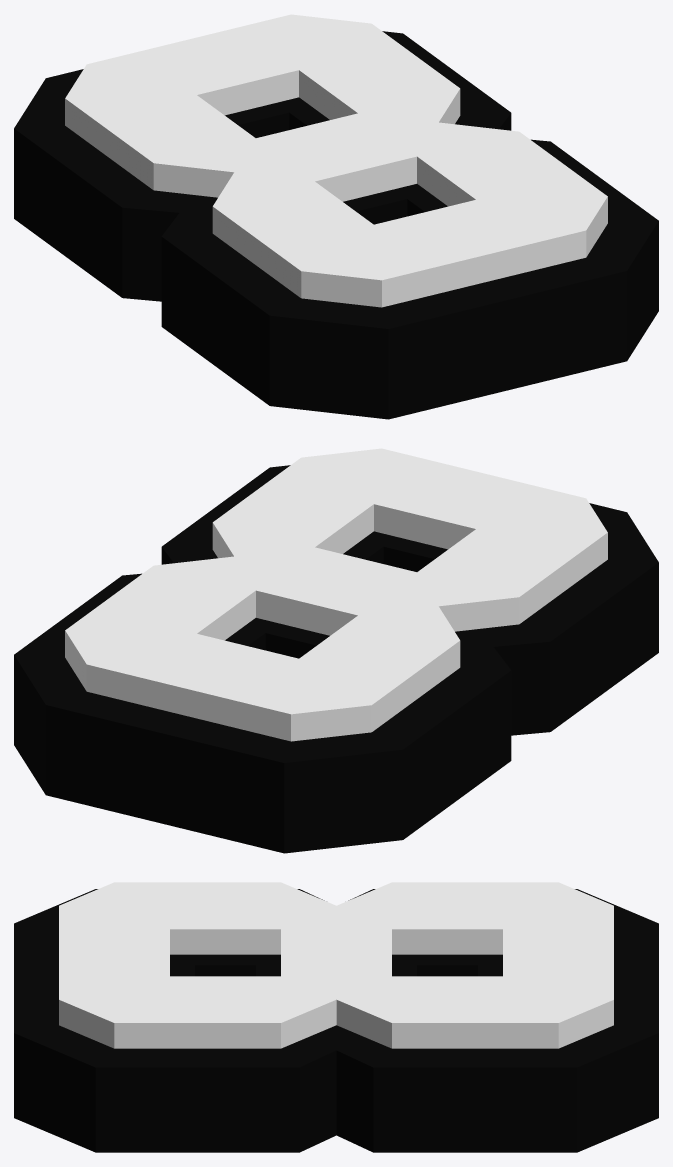
File: txt_8.glb
3 views of the same model, one above another, from view 1: azimuth 30°, elevation 25°; view 2: azimuth 150°, elevation 25°; view 3: azimuth 270°, elevation 25° (orthographic). The views are drawn at different scales.
Parts seen in each view (by area): view 1: 8.002; view 2: 8.002; view 3: 8.002.
Boxes of the visible parts, box(x1,y1,x2,y2) form: 8.002: box(14, 14, 658, 419); 8.002: box(14, 448, 658, 853); 8.002: box(14, 882, 658, 1152).
Bounding box in the file's own units: 0.6854 × 0.1978 × 1.05.
1 material, 1 textured.
